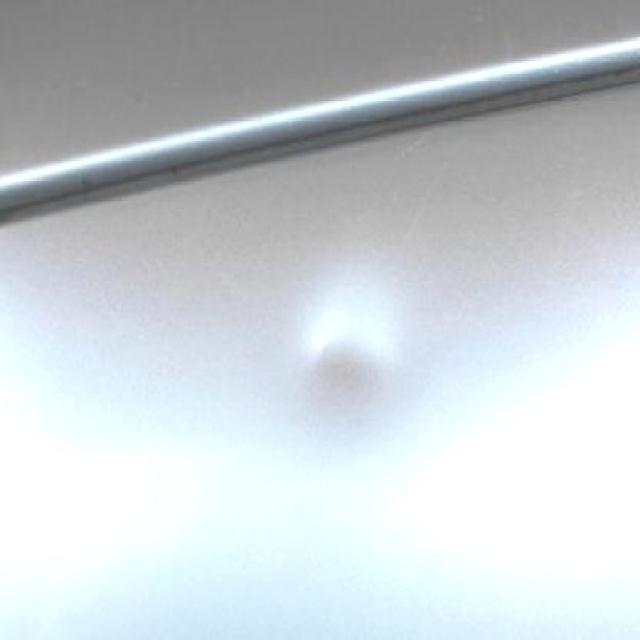dent: (293, 326, 361, 403)
